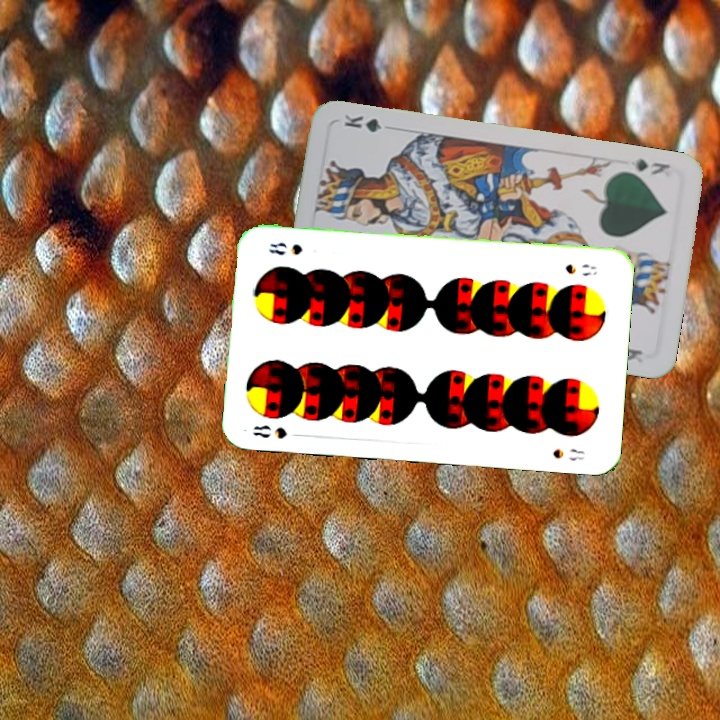GK: (626, 155, 673, 178)
S8: (249, 421, 305, 441), (561, 259, 599, 279)
